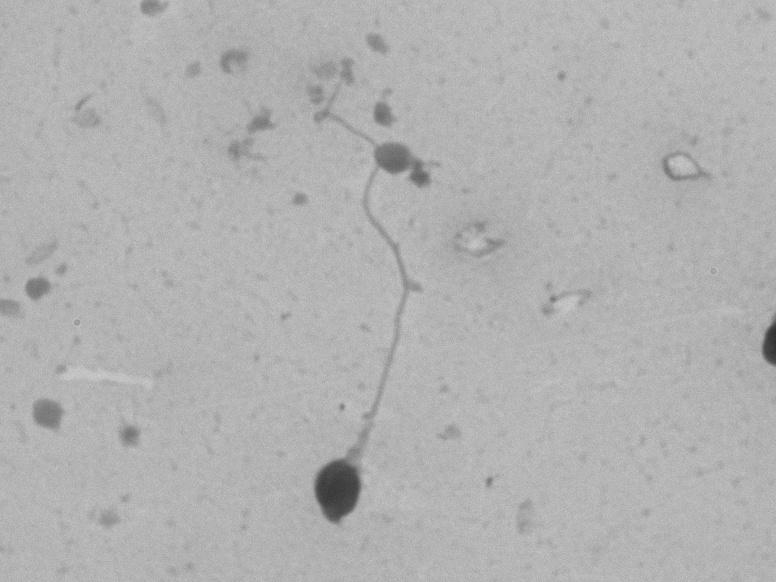Abnormal: (296, 72, 420, 534)
